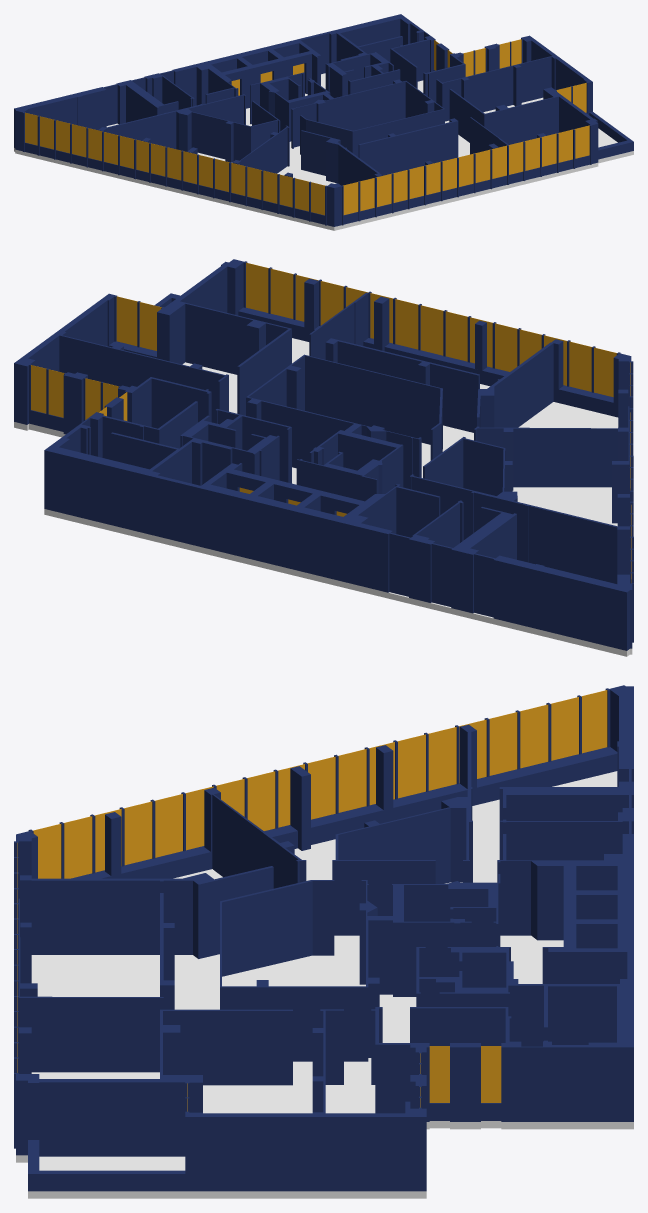
The model's file is 1855B 7th Floor.fbx.
3 views of the same model, one above another, from view 1: azimuth 30°, elevation 25°; view 2: azimuth 150°, elevation 25°; view 3: azimuth 270°, elevation 25° (orthographic). The views are drawn at different scales.
Parts seen in each view (by area): view 1: Walls, Interior Member, Object_1; view 2: Walls, Interior Member, Object_1; view 3: Walls, Object_1, Interior Member.
Part boxes in pixels (x1=…): Walls: x1=14, y1=14, x2=633, y2=226; Interior Member: x1=25, y1=39, x2=589, y2=215; Object_1: x1=14, y1=73, x2=633, y2=230; Walls: x1=14, y1=259, x2=633, y2=650; Interior Member: x1=31, y1=262, x2=631, y2=582; Object_1: x1=14, y1=338, x2=632, y2=656; Walls: x1=14, y1=685, x2=633, y2=1191; Object_1: x1=16, y1=771, x2=633, y2=1198; Interior Member: x1=17, y1=690, x2=607, y2=1111.
Bounding box in the file's own units: 1492 × 906 × 132.
